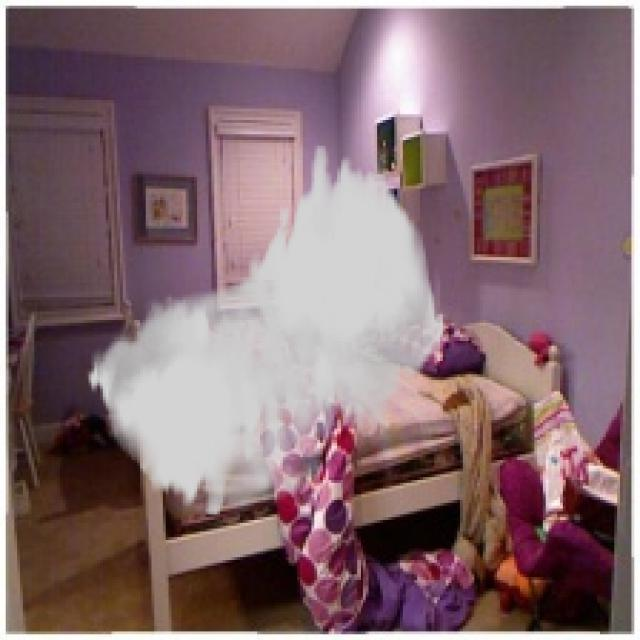Smoke: (86, 145, 446, 518)
